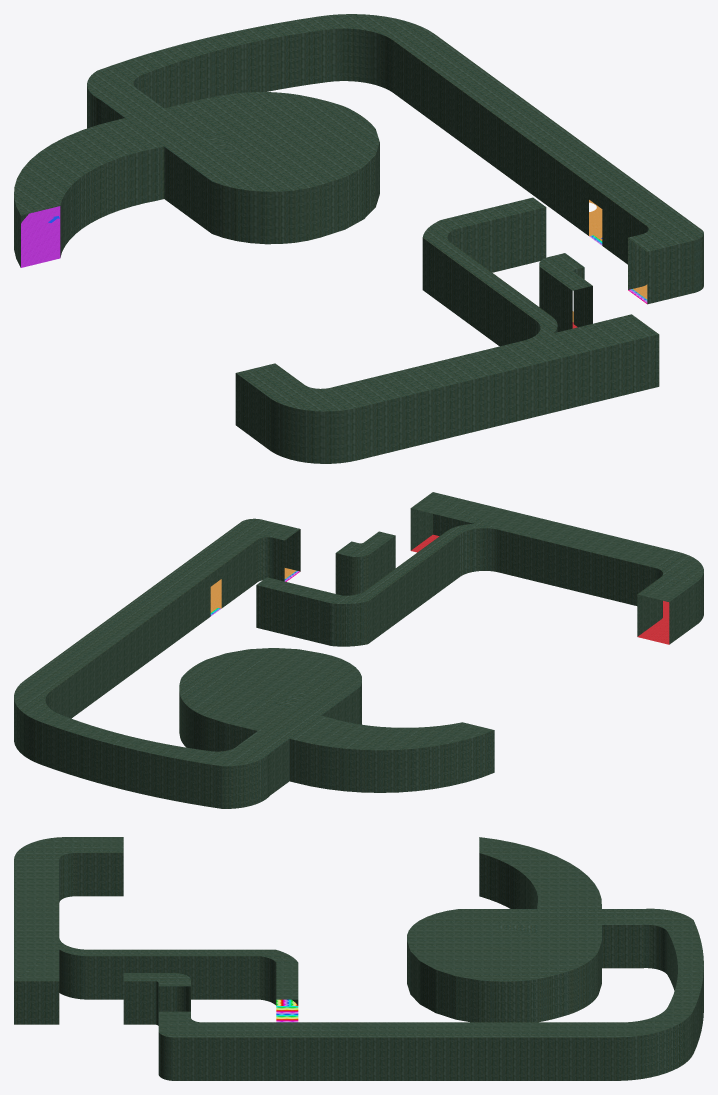
The picture shows the model from 3 angles, top to bottom: view 1: azimuth 30°, elevation 25°; view 2: azimuth 150°, elevation 25°; view 3: azimuth 270°, elevation 25°; orthographic projection. The views are drawn at different scales.
Visible parts, largest first — view 1: Color2-SKP--000C_1.001, Color2-SKP--0000.001; view 2: Color2-SKP--000C_1.001, Color2-SKP--0000_4.001; view 3: Color2-SKP--000C_1.001, Color2-SKP--0007.001.
Part boxes in pixels (x1,y1,x2,y2): Color2-SKP--000C_1.001: [14, 14, 703, 463]; Color2-SKP--0000.001: [21, 206, 60, 267]; Color2-SKP--000C_1.001: [14, 492, 703, 808]; Color2-SKP--0000_4.001: [411, 534, 669, 644]; Color2-SKP--000C_1.001: [14, 837, 703, 1080]; Color2-SKP--0007.001: [276, 999, 298, 1022].
Size of what is drawn, in the model's own units: 67903 by 6850 by 98722.
13 materials, 13 textured.
